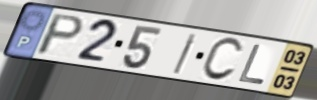2: (71, 18, 122, 66)
5: (121, 23, 165, 71)
C: (198, 36, 245, 83)
I: (170, 32, 200, 76)
L: (236, 43, 267, 87)
P: (33, 12, 87, 57)
